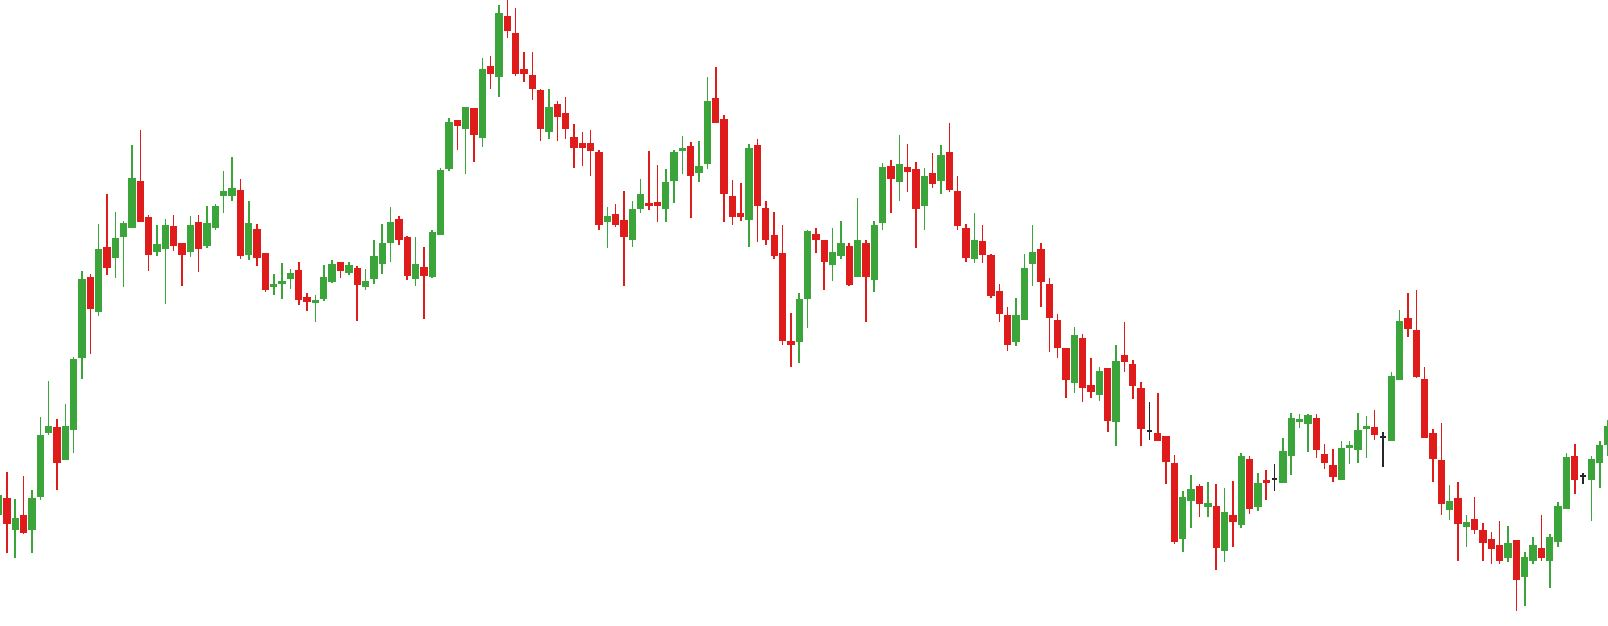buy: (1178, 487, 1229, 574)
sell: (894, 118, 956, 218)
